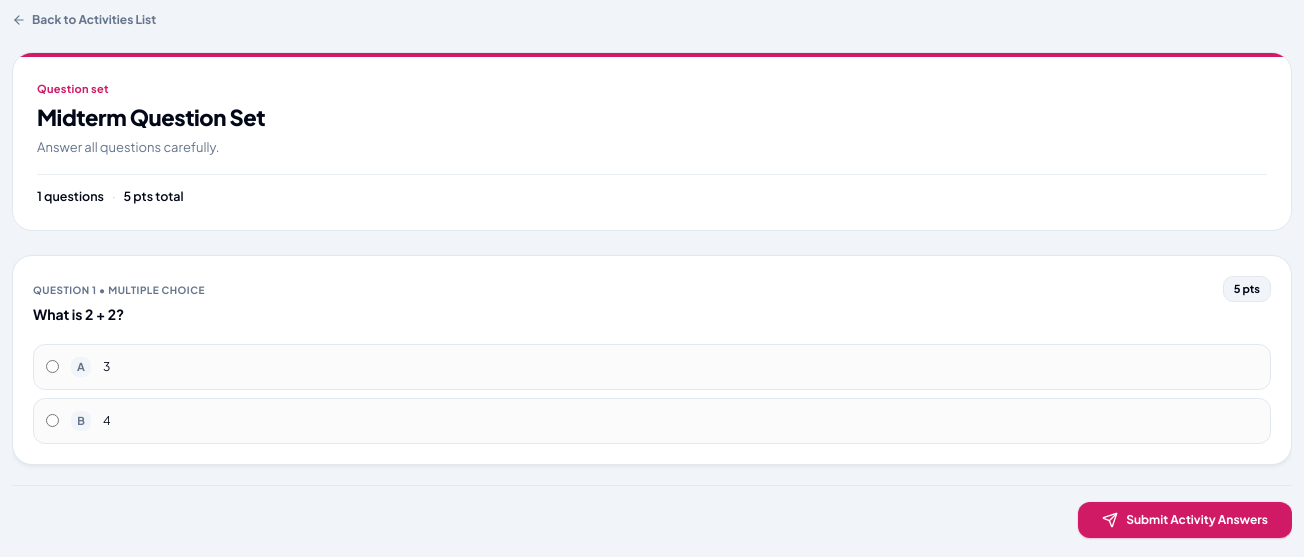
ActivityRunnerView › does not offer to answer again after submitting
The image size is (1304, 557).
Click the radio button labelled "B 4" at (52, 421), box [46,414,59,427]
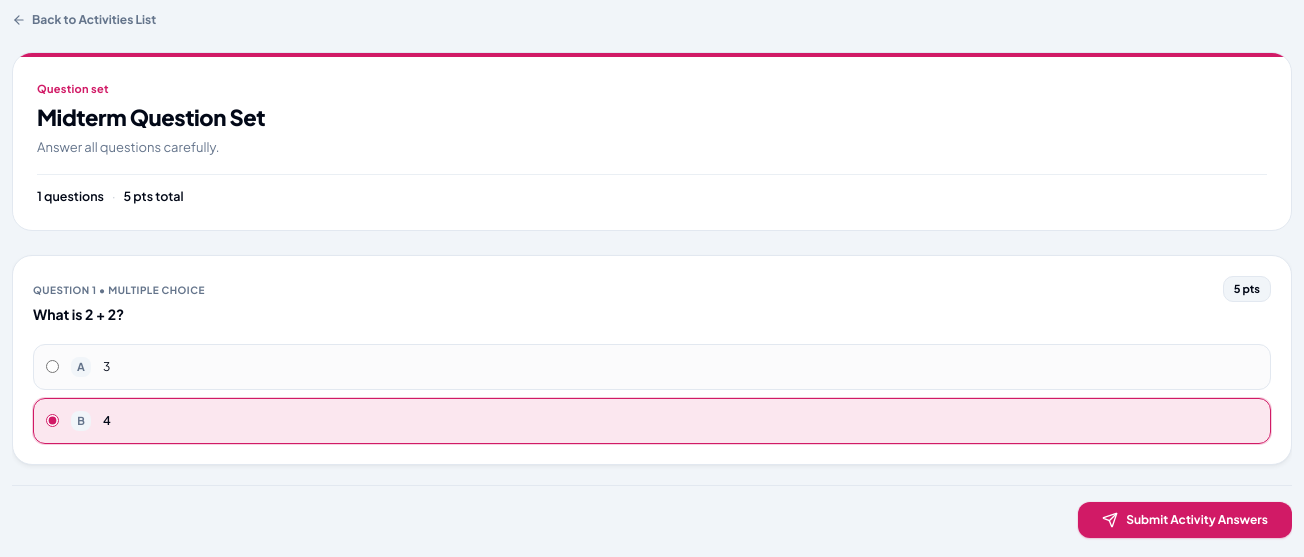
Click the button "Submit Activity Answers" at (1185, 520), box [1078,502,1292,538]
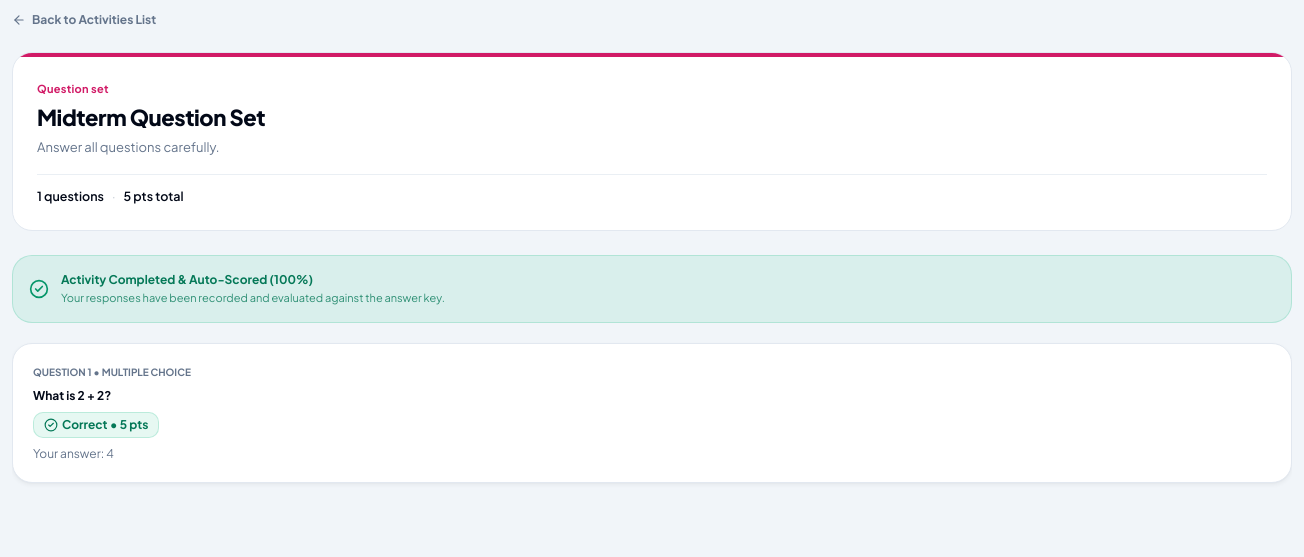
Expected: the text "Activity Completed & Auto-Scored (100%)" is shown, [61,272,313,287]
